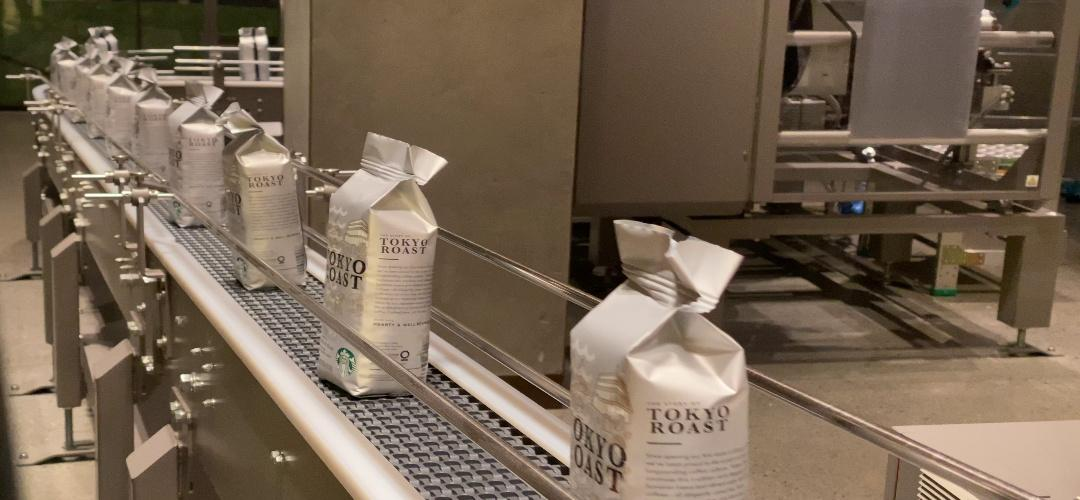conveyor: (570, 327, 746, 495), (330, 198, 430, 322), (223, 156, 304, 240)
